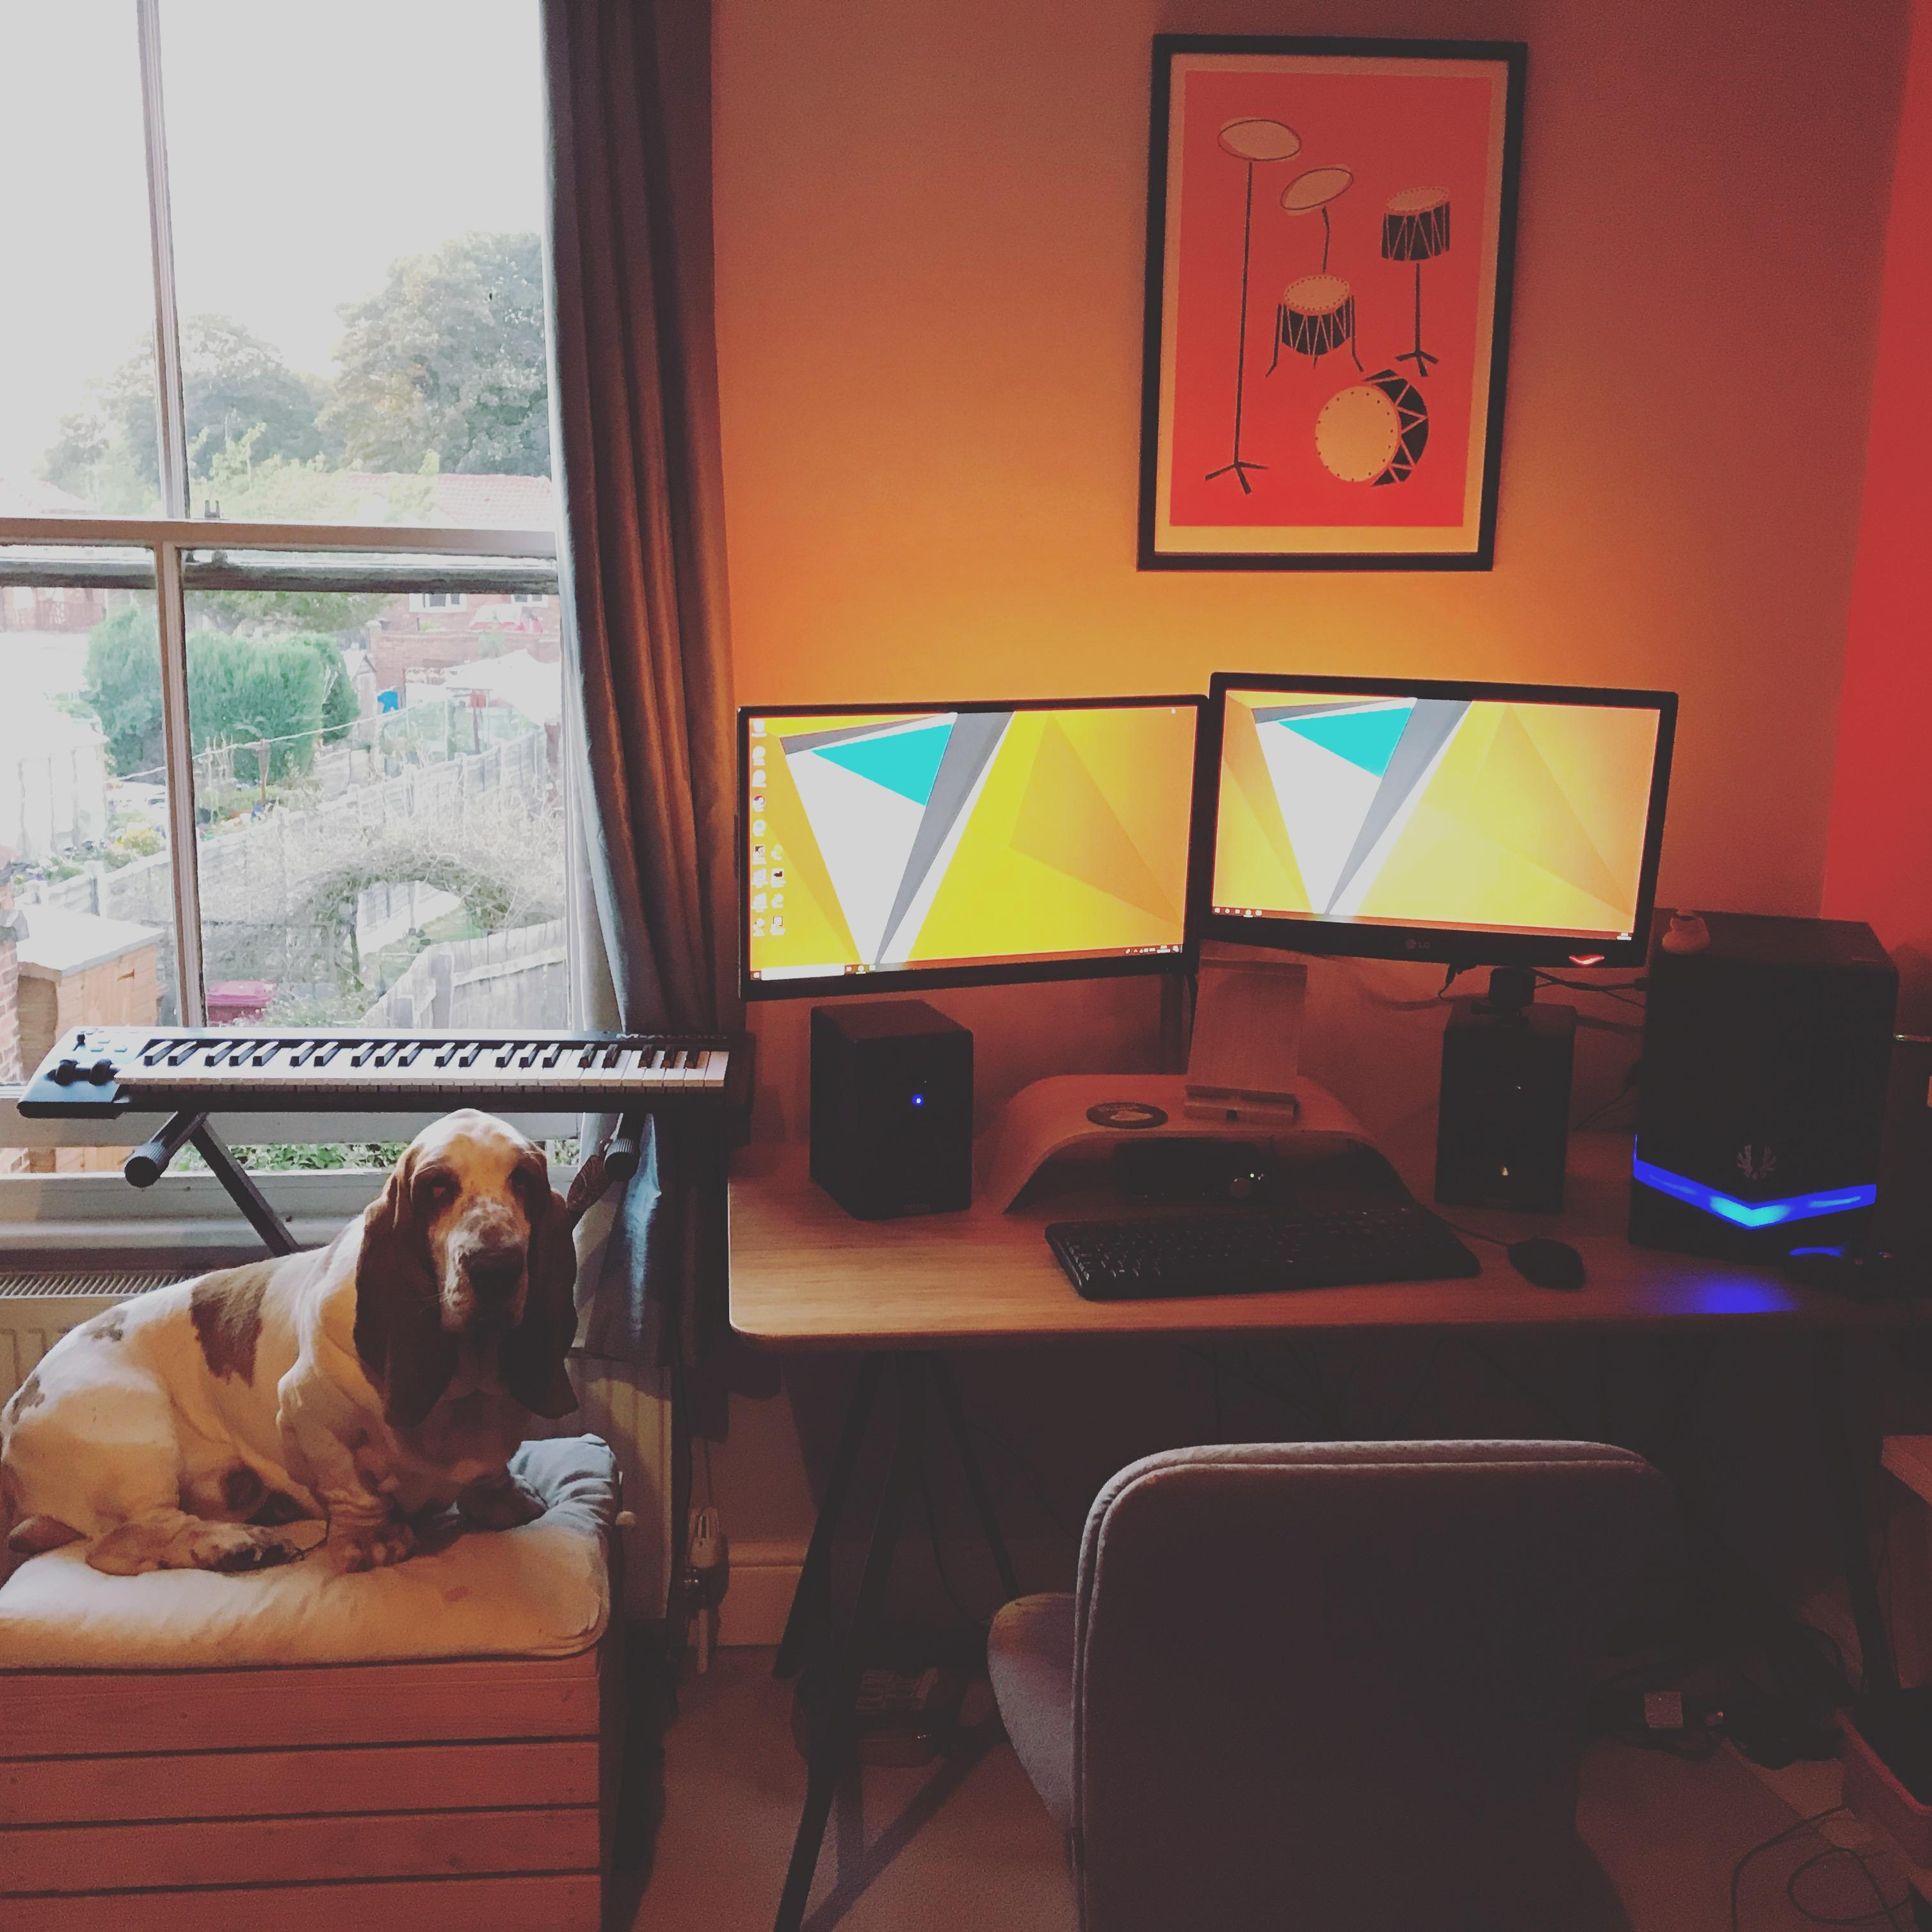Chair (Generic): (971, 1424, 1675, 1930)
Decoration (Generic): (1660, 906, 1713, 968)
Decoration (Picture): (1131, 23, 1532, 586)
Desk (Generic): (729, 1129, 1904, 1925)
Desktop (Windows): (1628, 908, 1902, 1272)
External Sound Card (Pre-amplifier): (1127, 1141, 1299, 1191)
External Speakers (Generic): (809, 998, 975, 1223), (1431, 1003, 1578, 1215)
Keyboard (Generic): (1042, 1192, 1488, 1302)
Monitor (Landscape): (732, 688, 1212, 1005), (1203, 674, 1677, 971)
Mouse (Generic): (1506, 1233, 1589, 1292)
Musical Instrument (Keyboard/Piano): (14, 1019, 764, 1272)
Phone Holder: (1182, 962, 1309, 1127)
